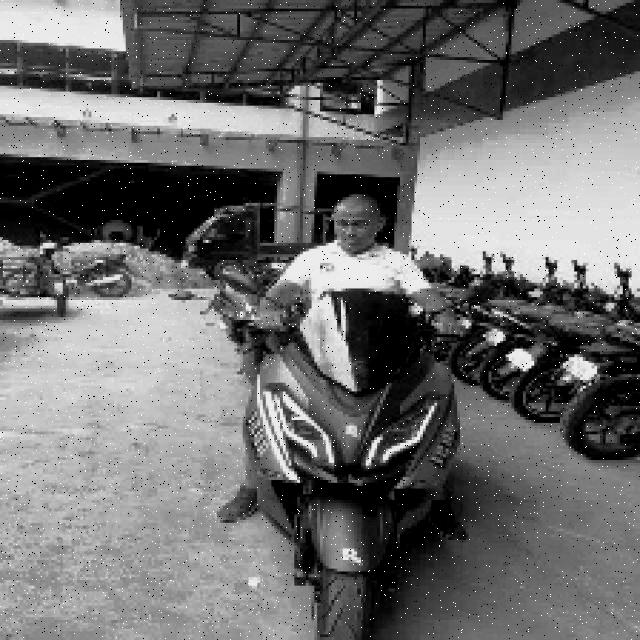Bike: (257, 325, 459, 635)
